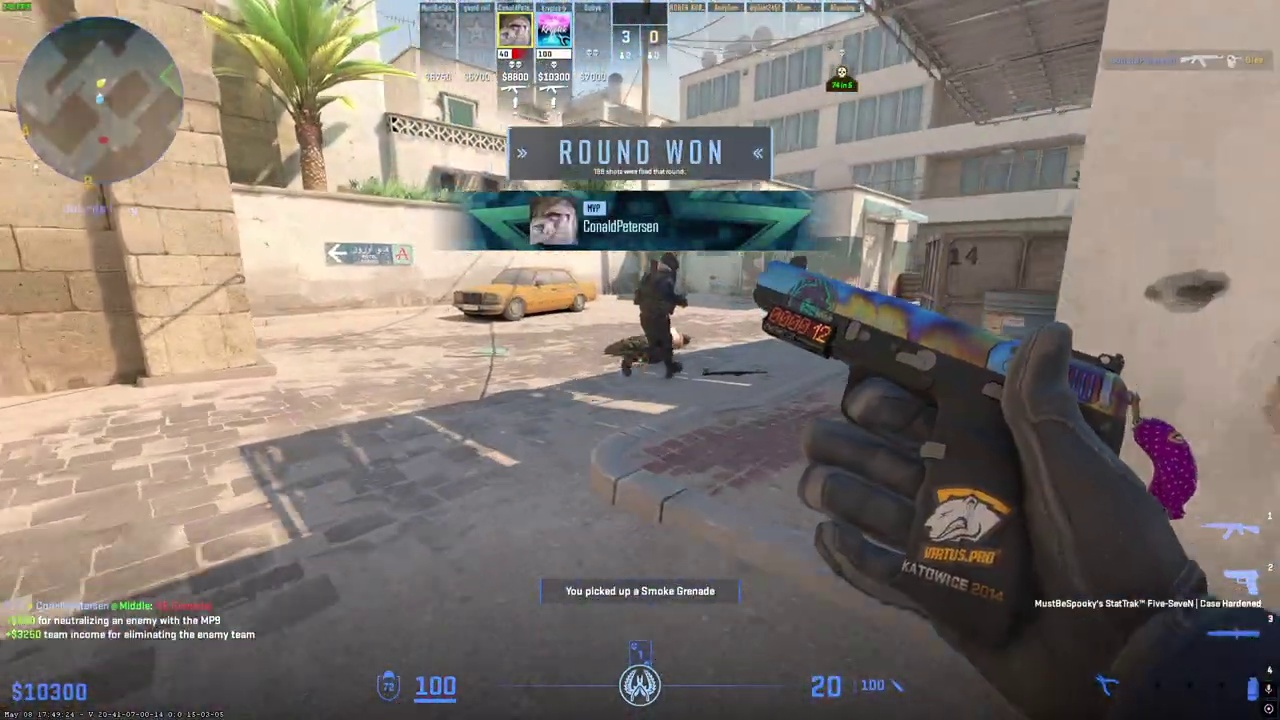CT: (621, 251, 688, 380)
